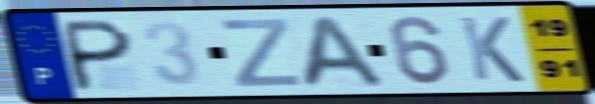3: (142, 18, 204, 90)
6: (386, 14, 452, 87)
A: (296, 13, 391, 91)
K: (456, 14, 528, 84)
P: (63, 16, 136, 93)
Z: (218, 16, 303, 88)
